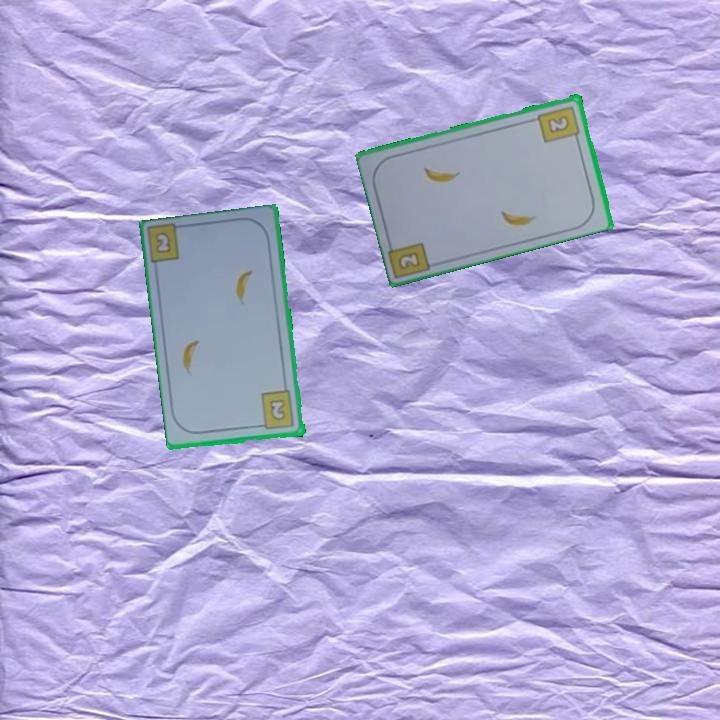2b: (535, 102, 583, 145), (255, 388, 297, 433), (395, 248, 423, 274), (154, 231, 172, 254)
